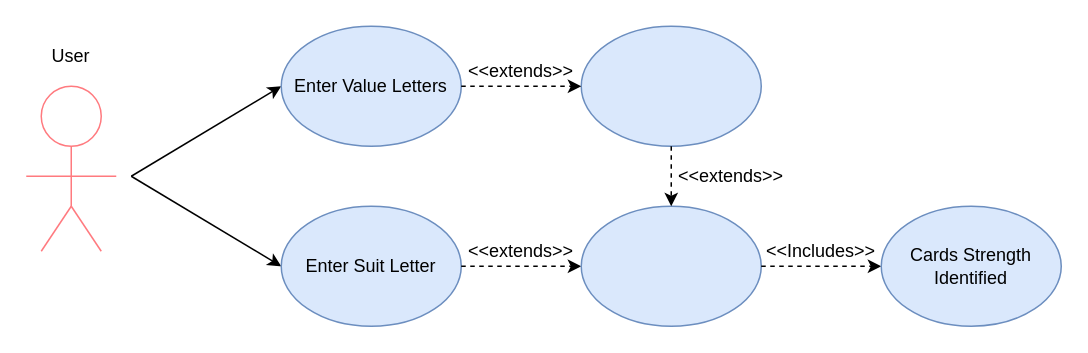
Image size: 1088x353. Some labels were removed from this diagram. The shapes that lost their labels are listed below. From the top down, each one's centre as x and y in pixels, then its label:
At pixel 670 85: "Total Values of all cards".
At pixel 670 265: "Cards Ranking Analysis".
